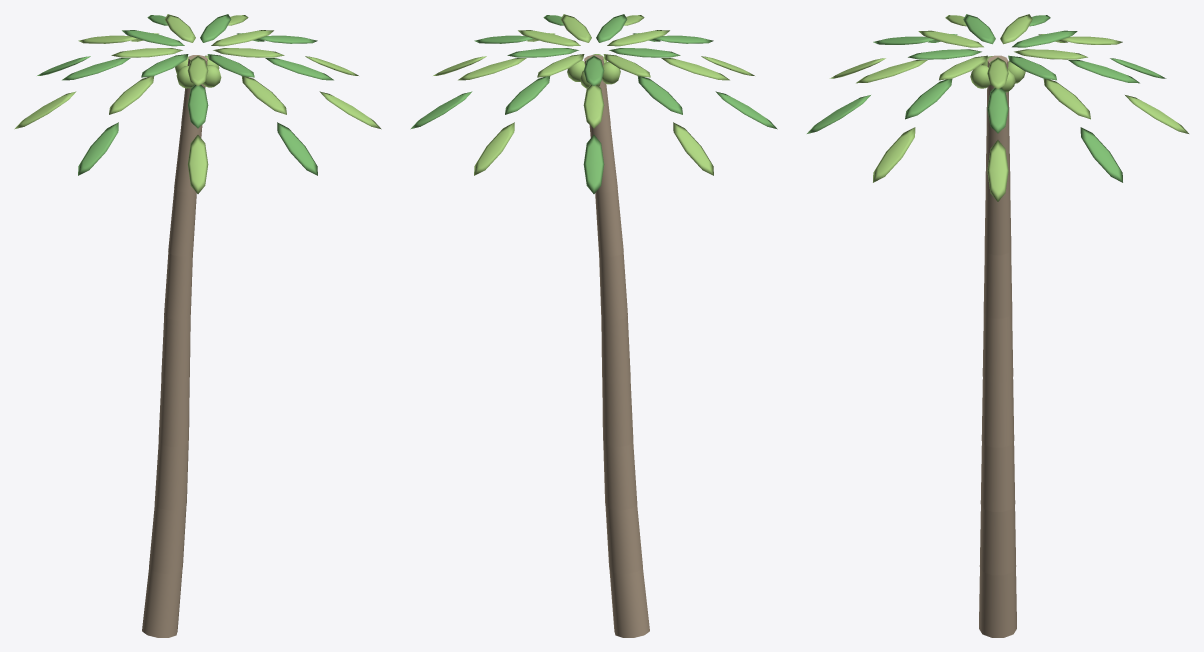
Rendered from SM_PalmTree.fbx.
3 views of the same model, side by side, from view 1: azimuth 30°, elevation 25°; view 2: azimuth 150°, elevation 25°; view 3: azimuth 270°, elevation 25° (orthographic). The views are drawn at different scales.
Parts seen in each view (by area): view 1: SM_PalmTree; view 2: SM_PalmTree; view 3: SM_PalmTree.
Boxes of the visible parts, <box> form: SM_PalmTree: <box>14,14,381,637</box>; SM_PalmTree: <box>410,14,777,637</box>; SM_PalmTree: <box>807,14,1188,637</box>.
Size of the model in its own units: 3.16 by 5.54 by 3.2.
